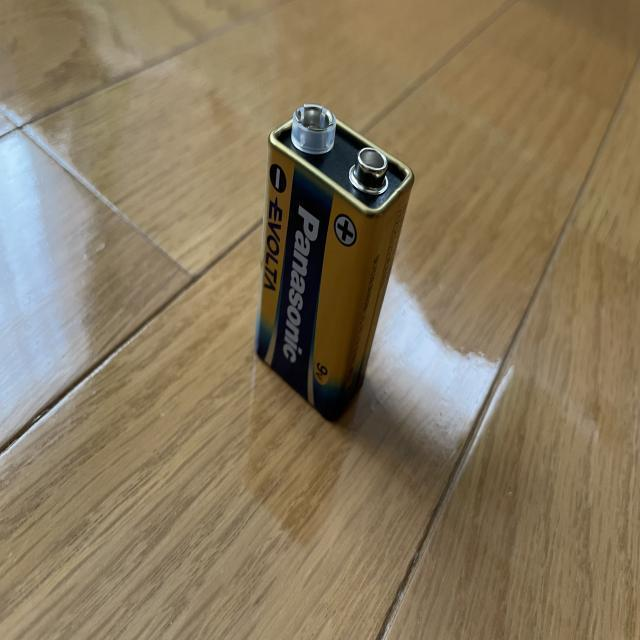9V: (253, 99, 414, 426)
